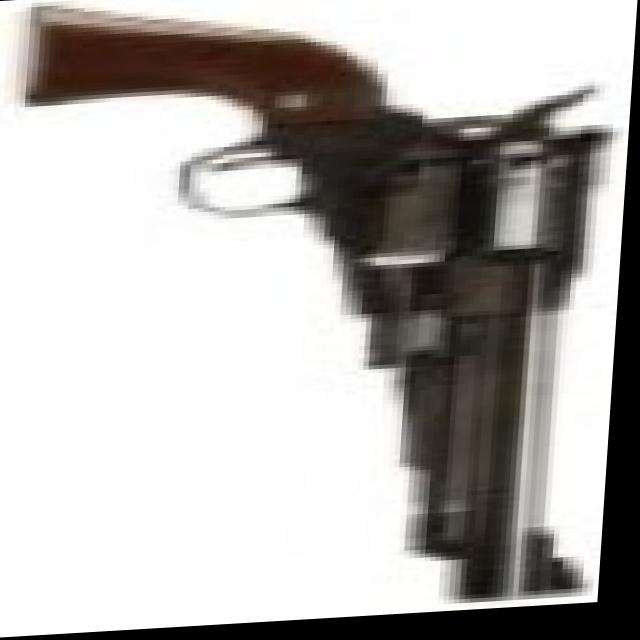handgun: (0, 0, 628, 635)
